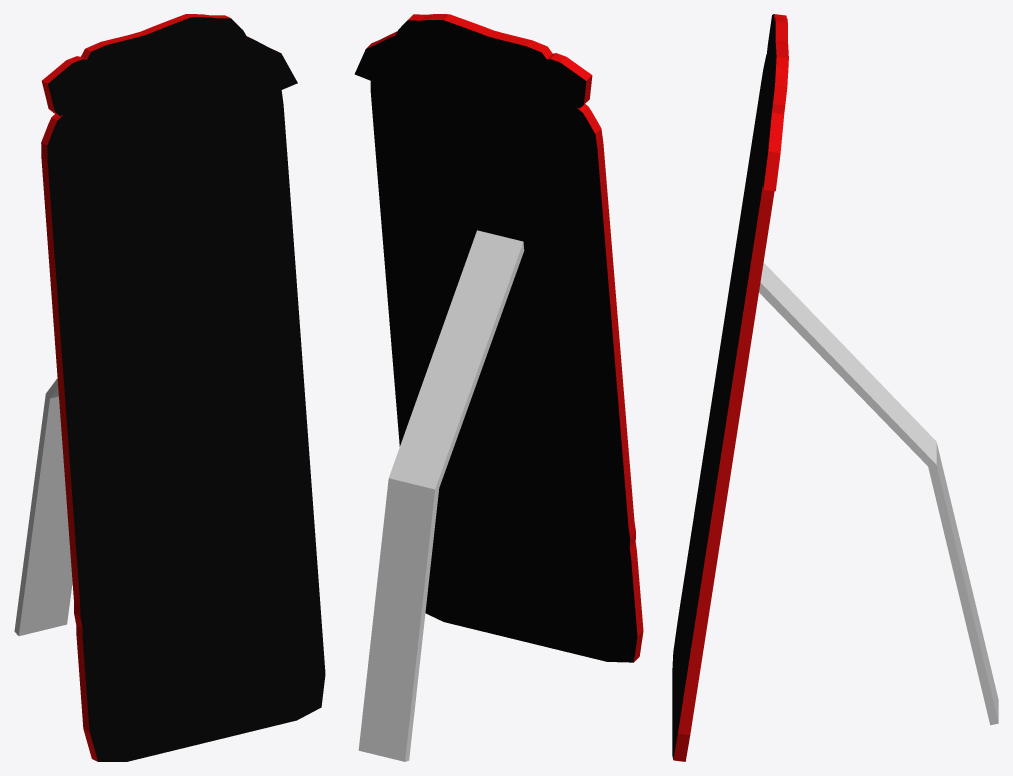
File: game stand cardboard.fbx
3 views of the same model, side by side, from view 1: azimuth 30°, elevation 25°; view 2: azimuth 150°, elevation 25°; view 3: azimuth 270°, elevation 25° (orthographic). The views are drawn at different scales.
Visible parts, largest first — view 1: path1, Plane; view 2: path1, Plane; view 3: path1, Plane.
Boxes of the visible parts, <box> form: path1: <box>41,14,325,761</box>; Plane: <box>14,378,72,635</box>; path1: <box>354,14,643,662</box>; Plane: <box>358,230,524,761</box>; path1: <box>672,14,788,761</box>; Plane: <box>759,262,998,725</box>.
Bounding box in the file's own units: 850 × 2196 × 960.
